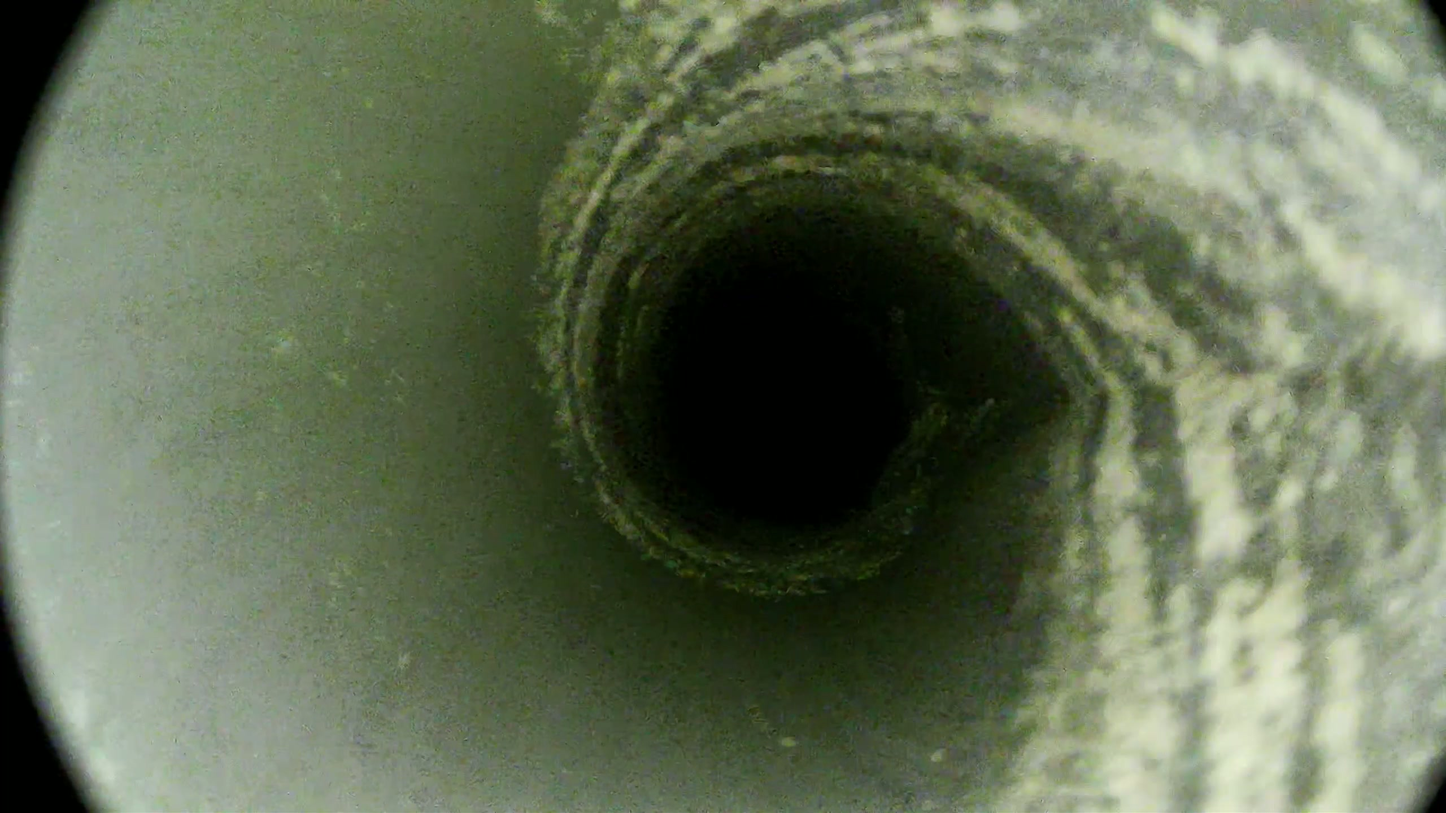hole: (678, 307, 899, 523)
